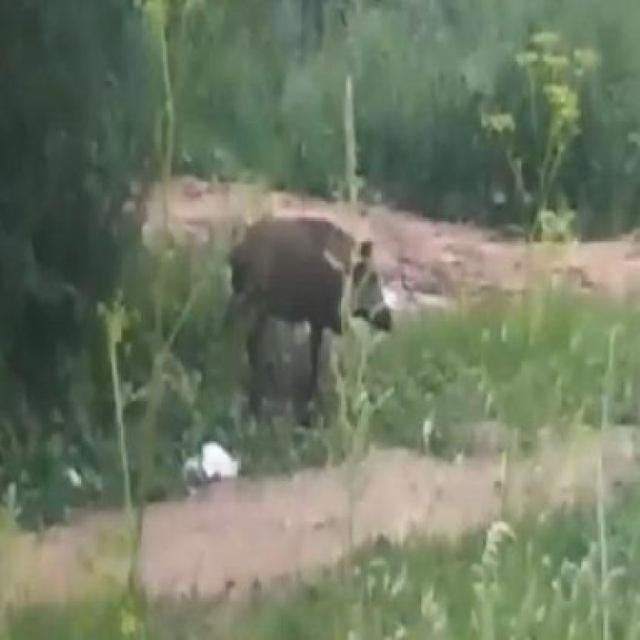wildboar: (217, 207, 394, 433)
